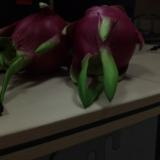pitaya: (69, 5, 140, 106), (9, 5, 69, 81)
